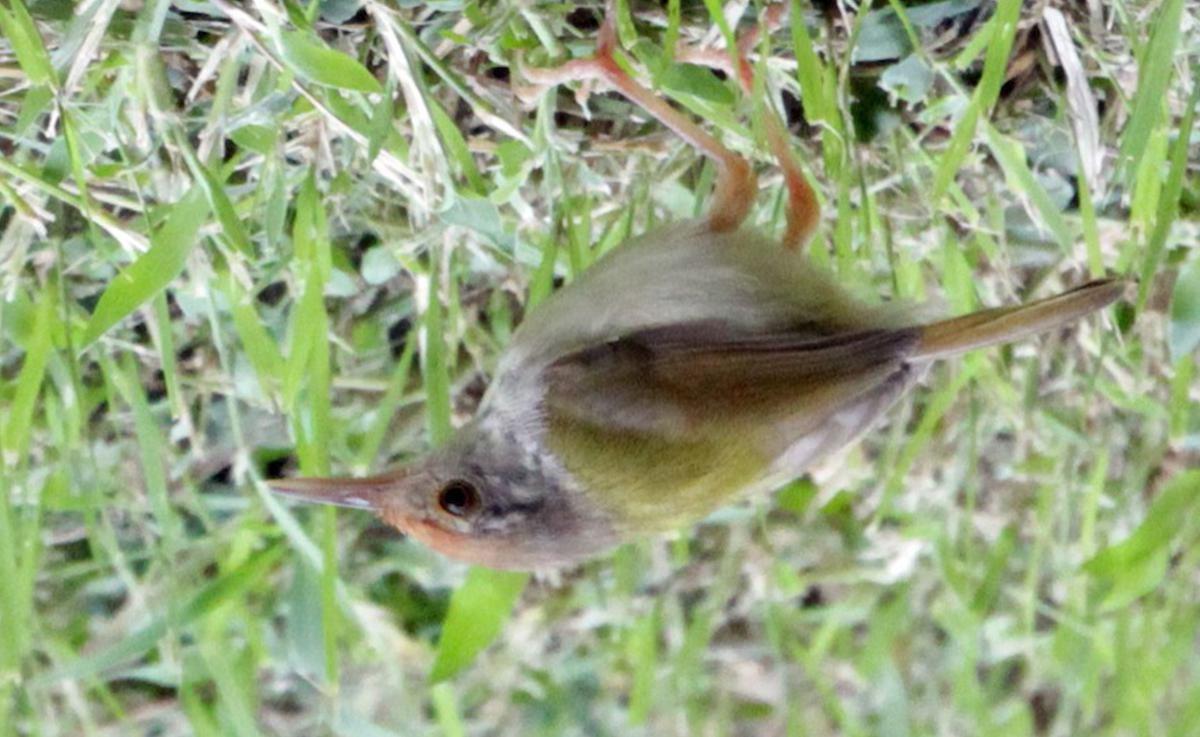tailorbird: (243, 194, 1138, 599)
